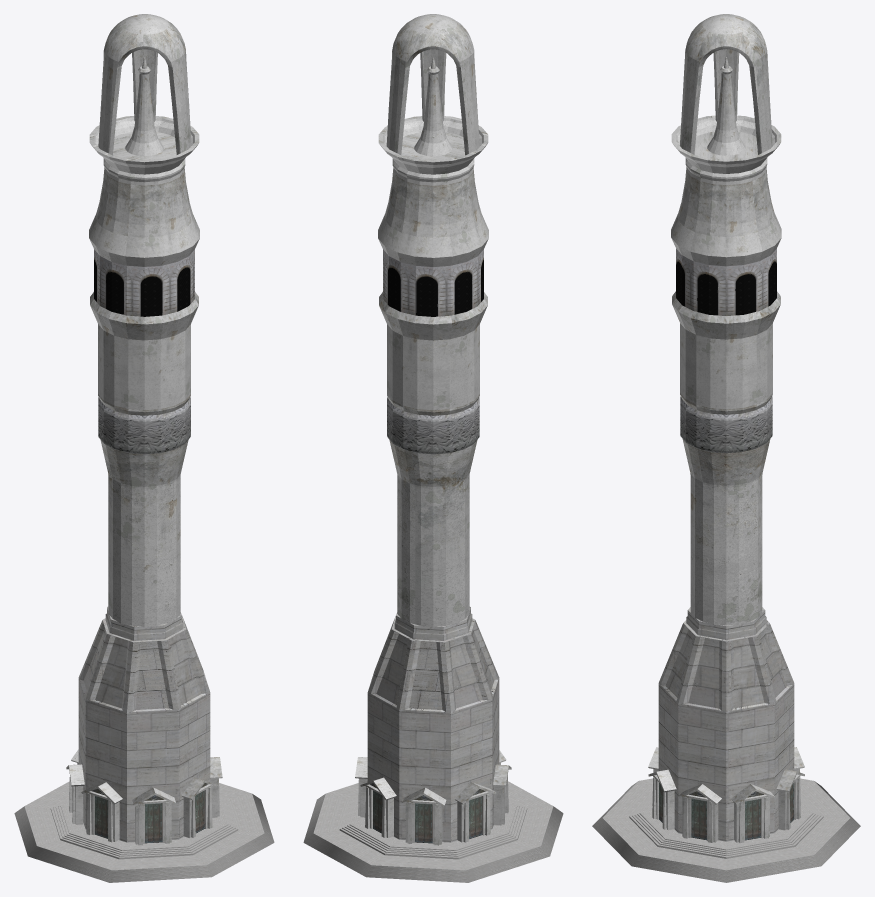
Rendered from tower.obj.
The picture shows the model from 3 angles, left to right: view 1: azimuth 30°, elevation 25°; view 2: azimuth 150°, elevation 25°; view 3: azimuth 270°, elevation 25°; orthographic projection.
Visible parts, largest first — view 1: Cylinder001, Cylinder002, ____004, ____003, Sphere001, ____001, ____002, Box022, Box010, Box016, ____014, Box006 (+1 smaller); view 2: Cylinder001, Cylinder002, ____004, ____003, Sphere001, ____001, ____002, Box012, Box006, Box018, ____012, Box022 (+1 smaller); view 3: Cylinder001, Cylinder002, ____004, ____003, Sphere001, ____001, ____002, Box003, Box024, Box018, Box010, ____020 (+1 smaller).
Part boxes in pixels (x1=…): Cylinder001: x1=89, y1=57, x2=199, y2=415; Cylinder002: x1=78, y1=606, x2=210, y2=842; ____004: x1=14, y1=781, x2=274, y2=882; ____003: x1=100, y1=440, x2=188, y2=627; Sphere001: x1=98, y1=14, x2=191, y2=155; ____001: x1=94, y1=249, x2=194, y2=316; ____002: x1=98, y1=397, x2=190, y2=454; Box022: x1=86, y1=793, x2=119, y2=842; Box010: x1=183, y1=787, x2=212, y2=837; Box016: x1=135, y1=802, x2=171, y2=845; ____014: x1=145, y1=803, x2=162, y2=843; Box006: x1=69, y1=777, x2=83, y2=824; Cylinder001: x1=378, y1=58, x2=488, y2=415; Cylinder002: x1=367, y1=606, x2=499, y2=842; ____004: x1=303, y1=781, x2=563, y2=882; ____003: x1=389, y1=440, x2=477, y2=627; Sphere001: x1=386, y1=14, x2=479, y2=155; ____001: x1=383, y1=249, x2=483, y2=316; ____002: x1=387, y1=397, x2=479, y2=454; Box012: x1=405, y1=802, x2=442, y2=845; Box006: x1=457, y1=793, x2=490, y2=842; Box018: x1=365, y1=787, x2=393, y2=837; ____012: x1=415, y1=803, x2=432, y2=843; Box022: x1=494, y1=775, x2=508, y2=825; Cylinder001: x1=671, y1=57, x2=781, y2=414; Cylinder002: x1=658, y1=607, x2=794, y2=841; ____004: x1=592, y1=778, x2=860, y2=882; ____003: x1=682, y1=439, x2=770, y2=625; Sphere001: x1=680, y1=14, x2=772, y2=154; ____001: x1=676, y1=248, x2=776, y2=315; ____002: x1=680, y1=396, x2=772, y2=453; Box003: x1=682, y1=797, x2=718, y2=842; Box024: x1=734, y1=797, x2=769, y2=842; Box018: x1=778, y1=777, x2=800, y2=830; Box010: x1=652, y1=777, x2=674, y2=830; ____020: x1=745, y1=798, x2=760, y2=840.
Size of the model in its own units: 60.68 by 201 by 60.68.
